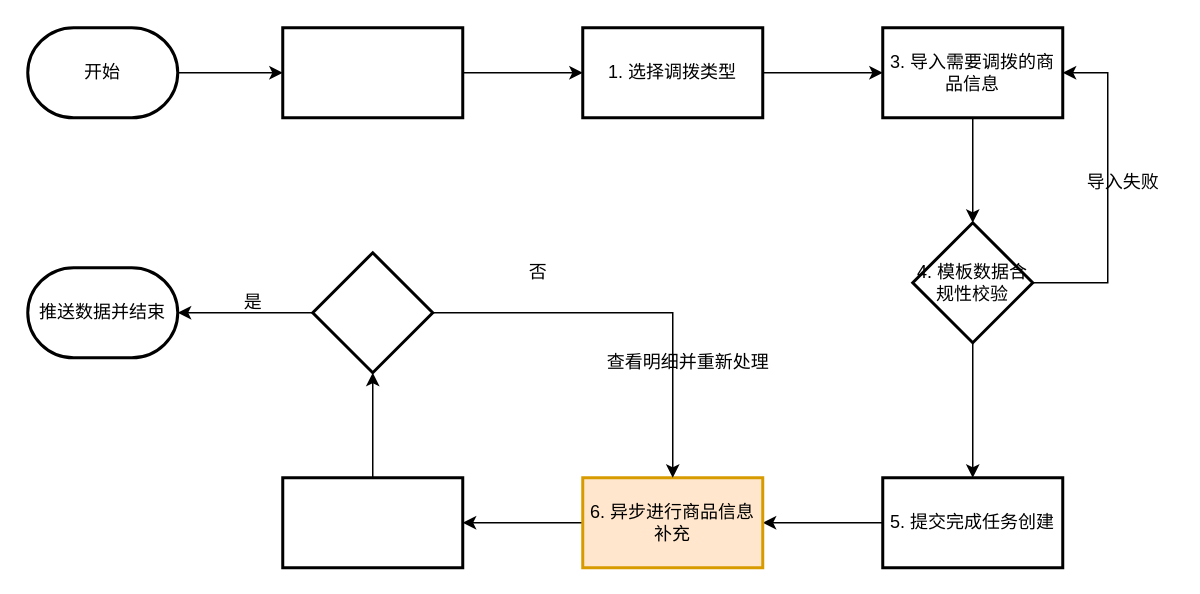
Image size: 1200x594. Some labels were removed from this diagram. The centre of each missing label's shape, as x and y in pixels:
"1. 创建任务" goes at (372,72).
"7.反馈数据补充结果" goes at (372,522).
"是否生成可推送的数据" goes at (372,312).
